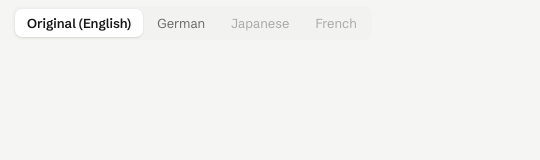
Scenario: the language switcher of the preview › an old row (no issues) is read by the overflow sentences only: a "not translated" sentence is not an overflow
This screenshot has width=540, height=160.
Click the radio button labelled "German". click: (181, 23)
box: [145,9,217,37]
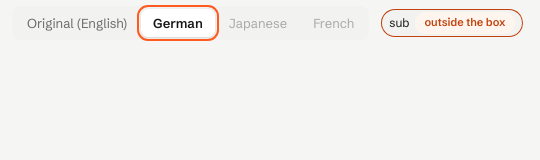
Now the list items read "suboutside the box", in this order, box [381,9,522,37]
